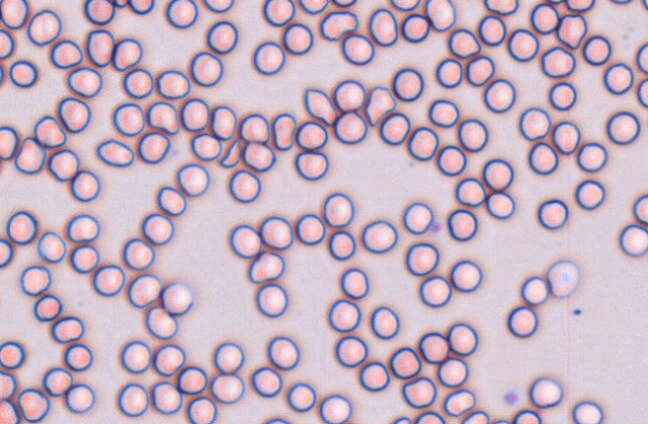PLT: (503, 389, 521, 406), (429, 220, 444, 233)
RBC: (546, 259, 580, 298), (26, 9, 61, 46), (57, 96, 91, 133), (361, 219, 397, 253), (259, 215, 293, 250), (190, 51, 223, 87), (368, 7, 398, 46), (327, 298, 361, 332), (405, 242, 439, 276), (127, 273, 161, 307), (606, 111, 640, 145), (540, 45, 575, 78), (66, 66, 102, 98), (228, 169, 261, 203), (333, 111, 367, 144), (176, 162, 209, 196), (112, 102, 145, 136), (401, 376, 436, 408), (117, 382, 149, 417), (322, 192, 354, 227), (483, 78, 515, 113), (145, 306, 178, 339), (153, 343, 186, 376), (518, 107, 551, 140), (92, 263, 125, 296), (33, 115, 66, 148), (122, 237, 155, 270), (141, 212, 174, 245), (137, 131, 170, 164), (229, 224, 261, 258), (161, 281, 193, 315), (256, 283, 288, 317), (267, 336, 299, 370), (529, 376, 563, 408), (206, 20, 238, 54), (507, 28, 539, 62), (253, 41, 285, 75), (407, 126, 438, 161), (86, 29, 114, 67), (450, 259, 482, 292), (333, 79, 365, 112), (47, 148, 79, 181), (341, 33, 374, 65), (242, 141, 276, 172), (447, 322, 478, 356), (6, 210, 37, 244), (457, 118, 488, 152), (392, 67, 423, 101), (419, 275, 451, 307), (389, 347, 421, 379), (335, 335, 367, 367), (151, 381, 182, 414), (418, 331, 449, 364), (213, 341, 244, 374), (120, 340, 151, 373), (507, 305, 538, 338), (482, 158, 513, 191), (379, 112, 410, 145), (282, 22, 313, 55), (210, 373, 244, 403), (294, 150, 328, 180), (528, 141, 558, 175), (112, 37, 142, 71), (49, 39, 83, 69), (156, 69, 190, 99), (402, 202, 433, 234), (603, 62, 634, 94), (70, 169, 100, 202), (295, 120, 328, 150), (447, 208, 477, 241), (370, 305, 399, 339), (66, 213, 100, 242), (437, 356, 468, 387), (251, 366, 282, 397), (574, 179, 605, 210), (537, 199, 568, 230), (424, 0, 455, 31), (20, 265, 51, 296), (454, 177, 486, 207), (436, 144, 466, 176), (295, 213, 325, 245), (448, 28, 480, 58), (36, 231, 66, 263), (319, 394, 352, 423), (180, 98, 209, 131), (619, 223, 647, 257), (50, 315, 84, 343), (552, 120, 580, 154), (358, 361, 389, 391), (64, 383, 95, 413), (465, 55, 495, 86), (576, 142, 607, 172), (340, 267, 369, 299), (530, 2, 559, 34), (443, 388, 476, 416), (165, 0, 198, 28), (210, 105, 237, 139), (286, 382, 316, 412), (239, 113, 269, 143), (123, 68, 153, 98), (42, 367, 73, 396), (190, 132, 221, 161), (428, 98, 459, 127), (582, 34, 611, 65), (478, 14, 506, 46), (157, 186, 186, 216), (262, 0, 295, 26), (70, 244, 99, 273), (177, 366, 207, 394), (520, 275, 548, 305), (328, 230, 356, 260), (485, 191, 515, 219), (186, 396, 217, 423), (0, 0, 28, 29), (64, 343, 93, 371), (548, 81, 576, 110), (401, 13, 429, 42), (8, 59, 37, 87), (435, 58, 462, 88), (83, 0, 114, 25), (571, 400, 603, 423), (0, 341, 24, 369), (0, 125, 18, 160), (483, 0, 518, 15), (0, 370, 16, 400), (0, 398, 19, 423), (632, 194, 647, 224), (0, 28, 14, 59), (298, 0, 329, 14), (512, 409, 541, 423), (203, 0, 234, 13), (0, 238, 13, 268), (414, 411, 445, 423), (564, 0, 595, 12), (461, 410, 489, 423), (128, 0, 154, 14), (636, 42, 647, 74), (636, 77, 647, 108), (389, 0, 420, 11), (332, 0, 357, 7), (391, 416, 411, 423), (112, 0, 128, 7), (0, 62, 4, 86), (492, 418, 511, 423), (609, 0, 632, 4), (546, 0, 563, 4), (642, 0, 648, 10)
Schistocyte: (304, 87, 339, 125), (364, 86, 397, 126), (248, 251, 286, 285), (96, 136, 135, 168), (555, 13, 588, 50), (17, 388, 50, 422), (15, 136, 44, 174), (320, 13, 359, 41), (34, 294, 63, 323), (218, 138, 241, 168)
